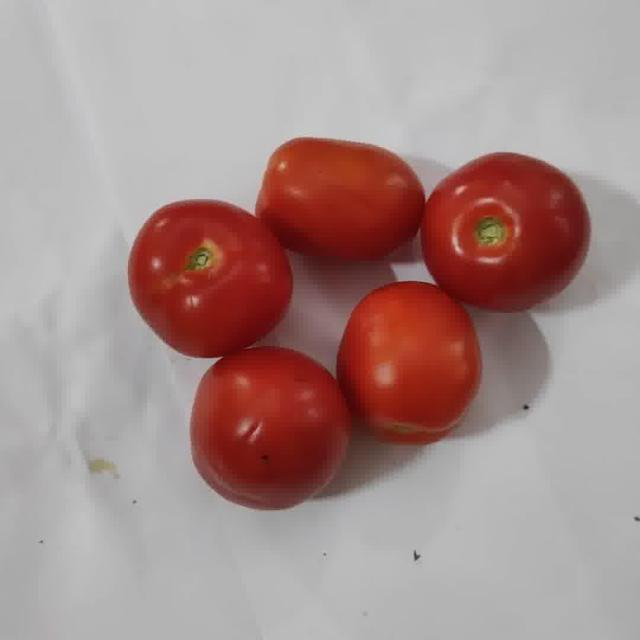Tomato: (421, 153, 589, 311), (129, 201, 292, 357), (191, 350, 349, 508), (337, 283, 480, 444), (256, 139, 424, 260)
